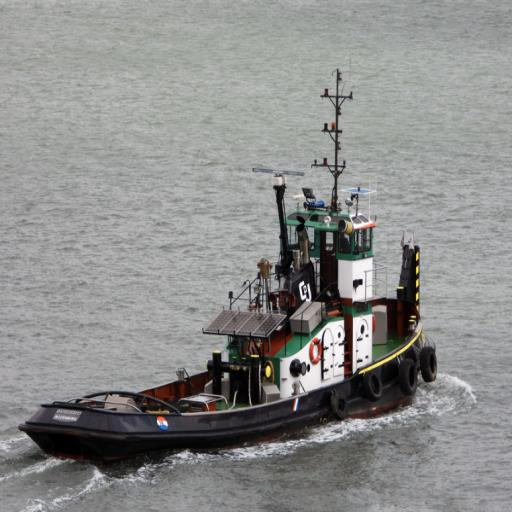tugboat: (18, 165, 441, 485)
